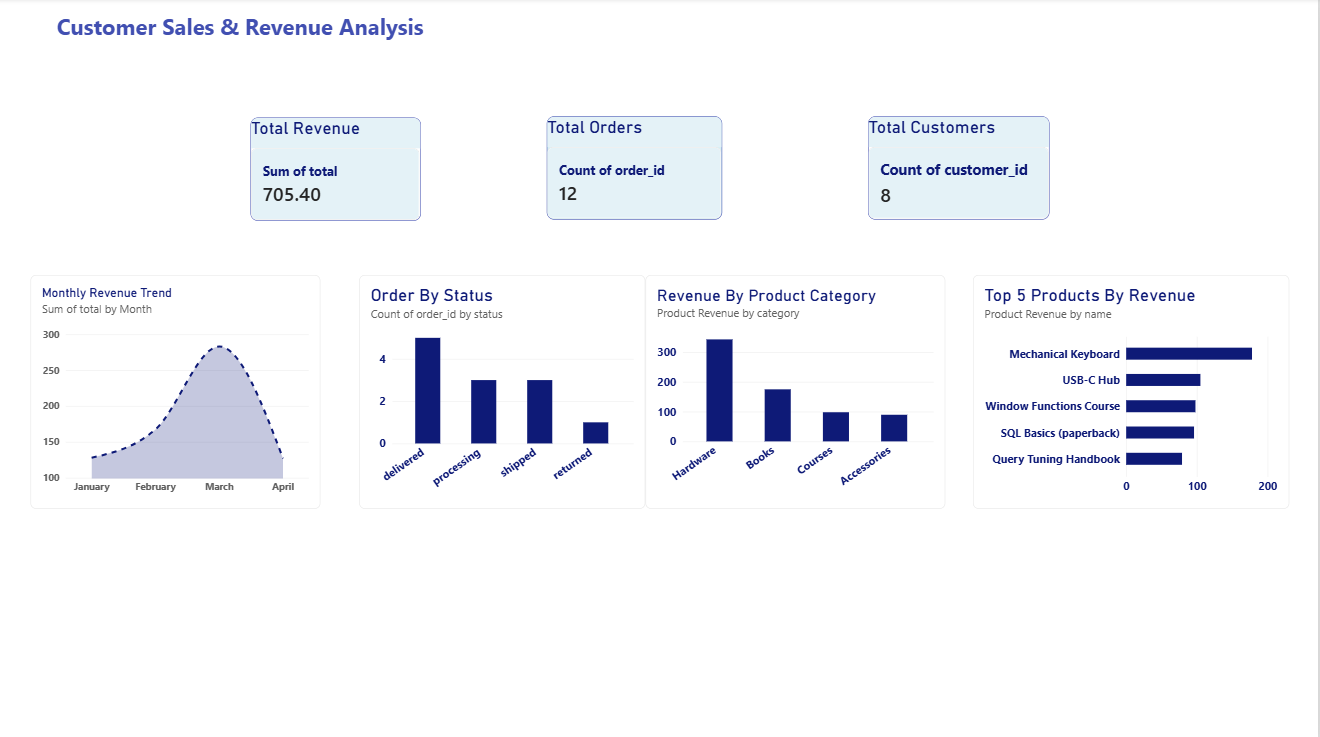

What the dashboard file says about the page in this screenshot:
{"tool":"powerbi","page":{"name":"Page 1","canvas":[1920,1080],"ordinal":0},"visuals":[{"type":"cardVisual","title":"Total Revenue","fields":{"Data":["Sum(Orders.total)"]},"box":[367.4,170.1,247.9,150.2],"z":0},{"type":"cardVisual","title":"Total Orders","fields":{"Data":["Count(Orders.order_id)"]},"box":[798.1,168.3,255.2,150.2],"z":1000},{"type":"cardVisual","title":"Total Customers","fields":{"Data":["Count(Customers.customer_id)"]},"box":[1265,168.3,264.2,150.2],"z":2000},{"type":"lineChart","title":"Monthly Revenue Trend","fields":{"Category":["Orders.order_date.Variation.Date Hierarchy.Month"],"Y":["Sum(Orders.total)"]},"box":[47.1,399.9,421.7,340.2],"z":3000},{"type":"clusteredColumnChart","title":"Revenue By Product Category","fields":{"Category":["Prodcuts.category"],"Y":["Order_items.Product Revenue"]},"box":[941,399.9,436.1,340.2],"z":4000},{"type":"clusteredColumnChart","title":"Order By Status","fields":{"Category":["Orders.status"],"Y":["CountNonNull(Orders.order_id)"]},"box":[524.8,399.9,416.2,340.2],"z":5000},{"type":"clusteredBarChart","title":"Top 5 Products By Revenue","fields":{"Category":["Prodcuts.name"],"Y":["Order_items.Product Revenue"]},"box":[1418.8,399.9,459.7,340.2],"z":6000},{"type":"textbox","box":[85.1,16.3,562.8,65.1],"z":7000}]}

Visuals, with their boxes in screenshot pixels (x1, y1, x2, y2), scaled from the page's 1920x1080 canvas onto the 1320x737 screenshot:
"Total Revenue" cardVisual: [x1=253, y1=116, x2=423, y2=219]
"Total Orders" cardVisual: [x1=549, y1=115, x2=724, y2=217]
"Total Customers" cardVisual: [x1=870, y1=115, x2=1051, y2=217]
"Monthly Revenue Trend" lineChart: [x1=32, y1=273, x2=322, y2=505]
"Revenue By Product Category" clusteredColumnChart: [x1=647, y1=273, x2=947, y2=505]
"Order By Status" clusteredColumnChart: [x1=361, y1=273, x2=647, y2=505]
"Top 5 Products By Revenue" clusteredBarChart: [x1=975, y1=273, x2=1291, y2=505]
textbox: [x1=59, y1=11, x2=445, y2=56]
